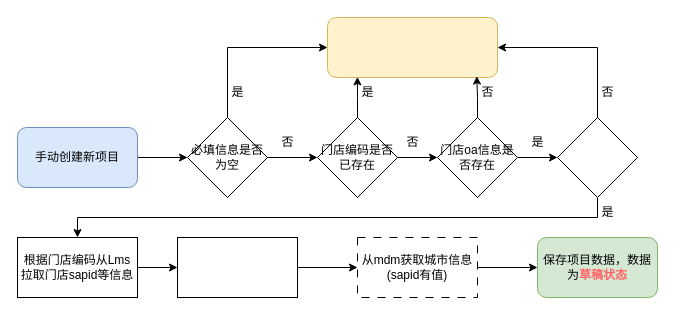
Some shapes in this 675 by 315 pixel diagram are drawn without their labels. The box of each missing label's shape, as (x1, y1, x2, y2) in pixels:
从oa获取城市信息: (176, 236, 298, 298)
创建失败: (326, 16, 498, 78)
是否符合门店配置: (556, 116, 638, 198)
